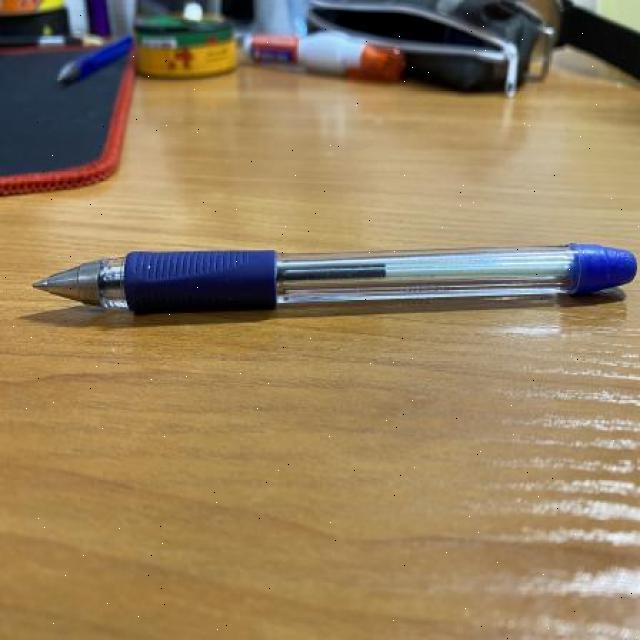pen: (29, 242, 635, 319)
